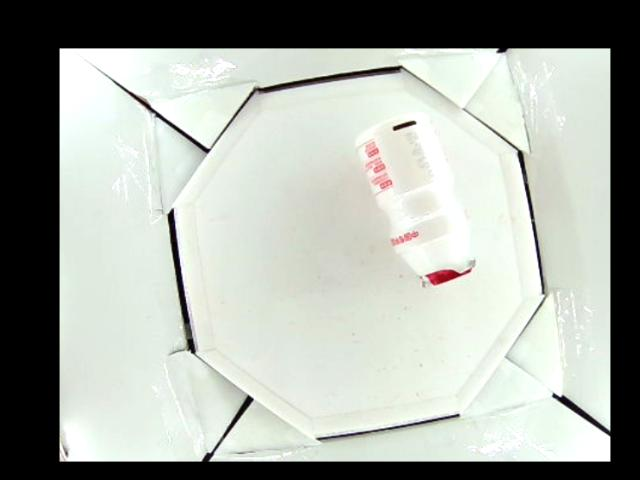Bottle: (352, 110, 476, 287)
